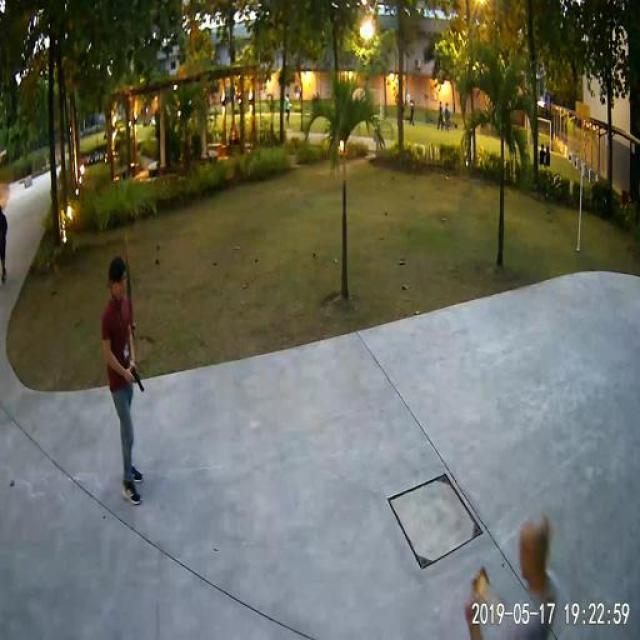Gun: (104, 359, 158, 398)
